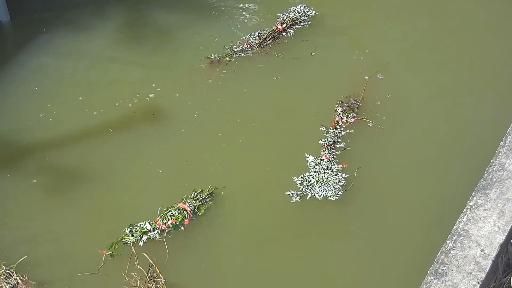twig: (282, 58, 400, 208), (198, 4, 342, 74), (101, 184, 235, 256), (121, 249, 176, 288), (0, 255, 37, 288)
